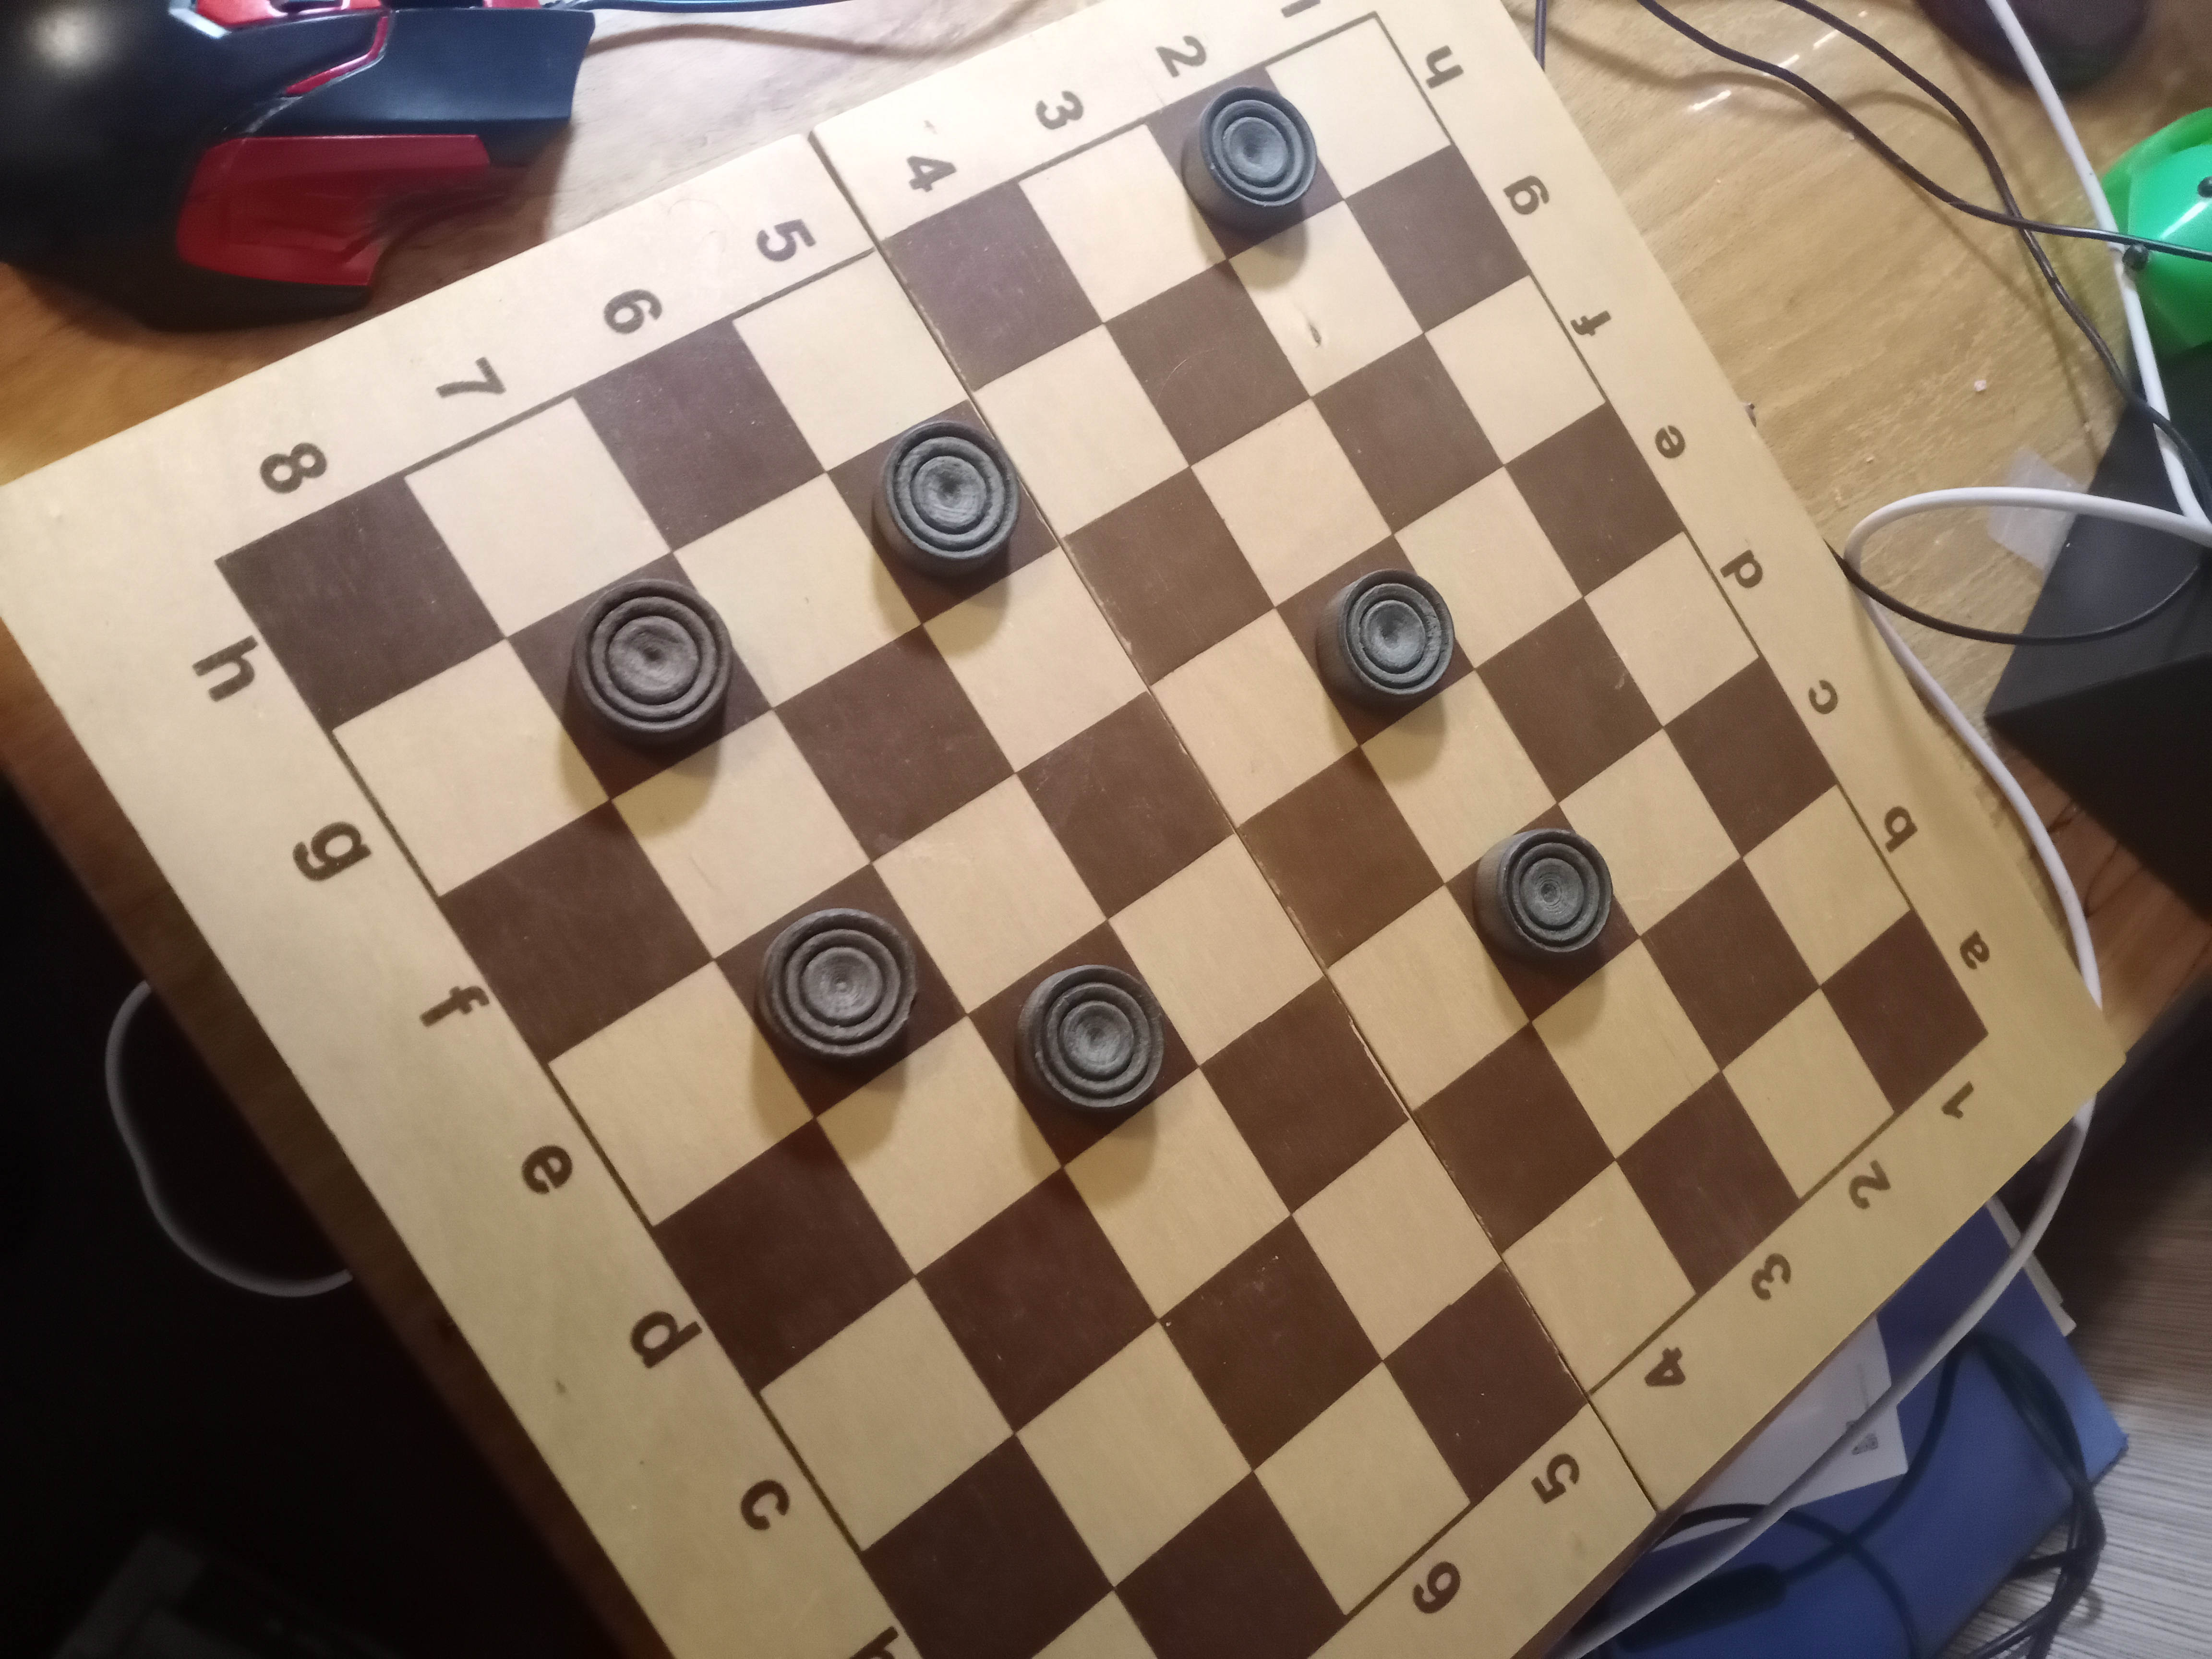Black_Draught: (507, 552, 775, 800), (714, 861, 972, 1117), (972, 920, 1200, 1171), (827, 401, 1068, 622), (1444, 802, 1642, 1023), (1277, 532, 1477, 748), (1141, 64, 1346, 260)
